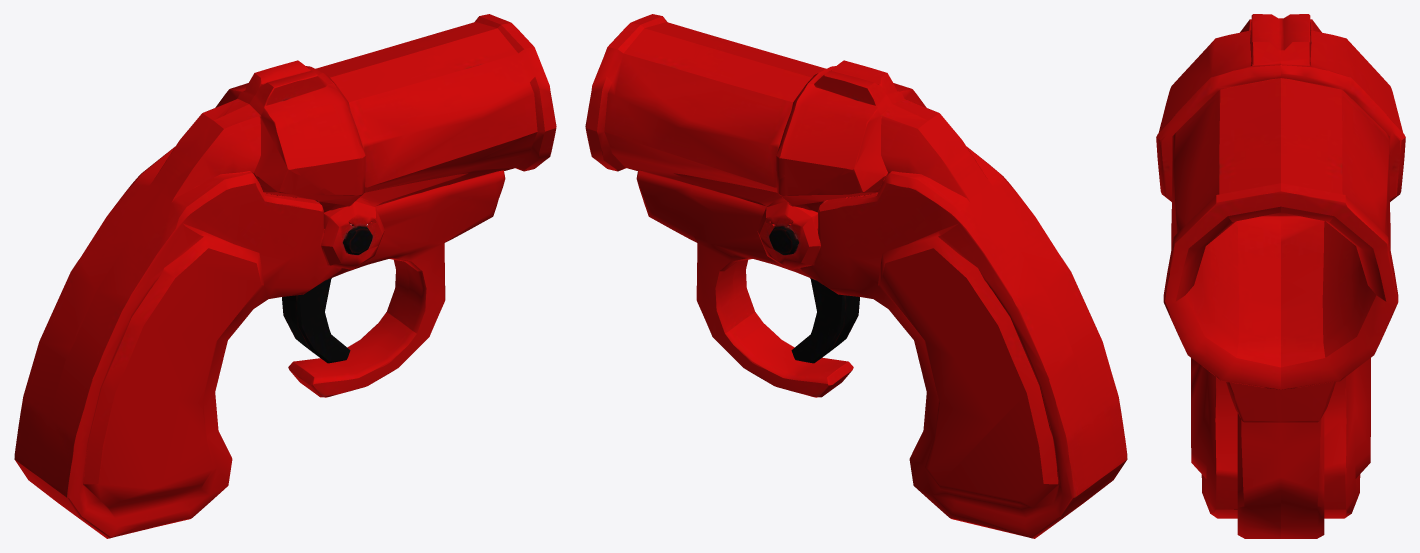
The model's file is flare_gun_low.glb.
3 renders of one model, left to right at view 1: azimuth 30°, elevation 25°; view 2: azimuth 150°, elevation 25°; view 3: azimuth 270°, elevation 25°, orthographic. The views are drawn at different scales.
Parts seen in each view (by area): view 1: world; view 2: world; view 3: world.
Part boxes in pixels (<box>): world: <box>14,14,556,538</box>; world: <box>585,14,1127,538</box>; world: <box>1156,14,1405,538</box>.
Bounding box in the file's own units: 1 × 0.807 × 0.318.
Materials: 1 (1 with a texture image).
